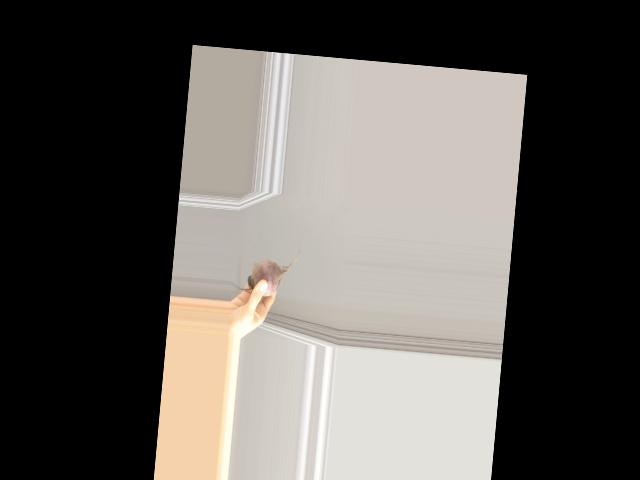beet: (230, 237, 301, 298)
